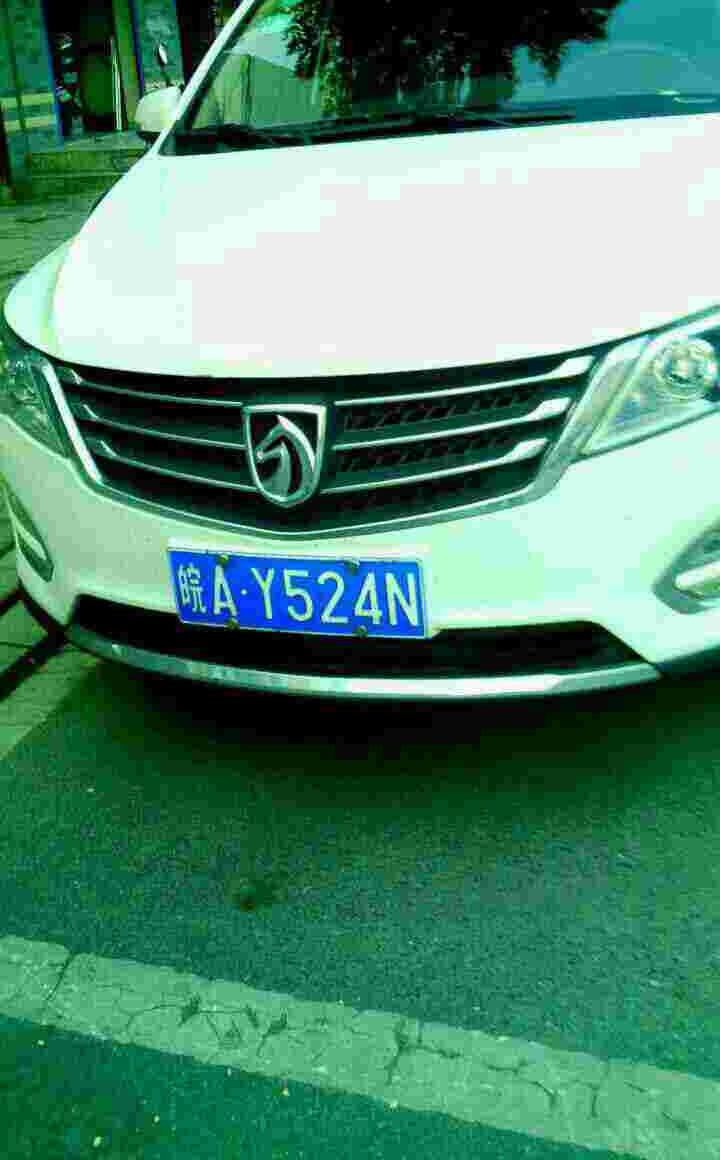license_plate: (156, 542, 436, 640)
